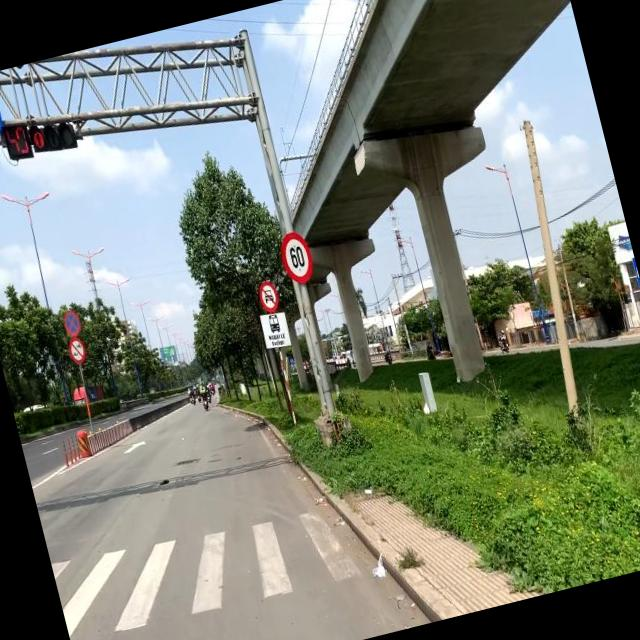P-127: (278, 230, 318, 286)
